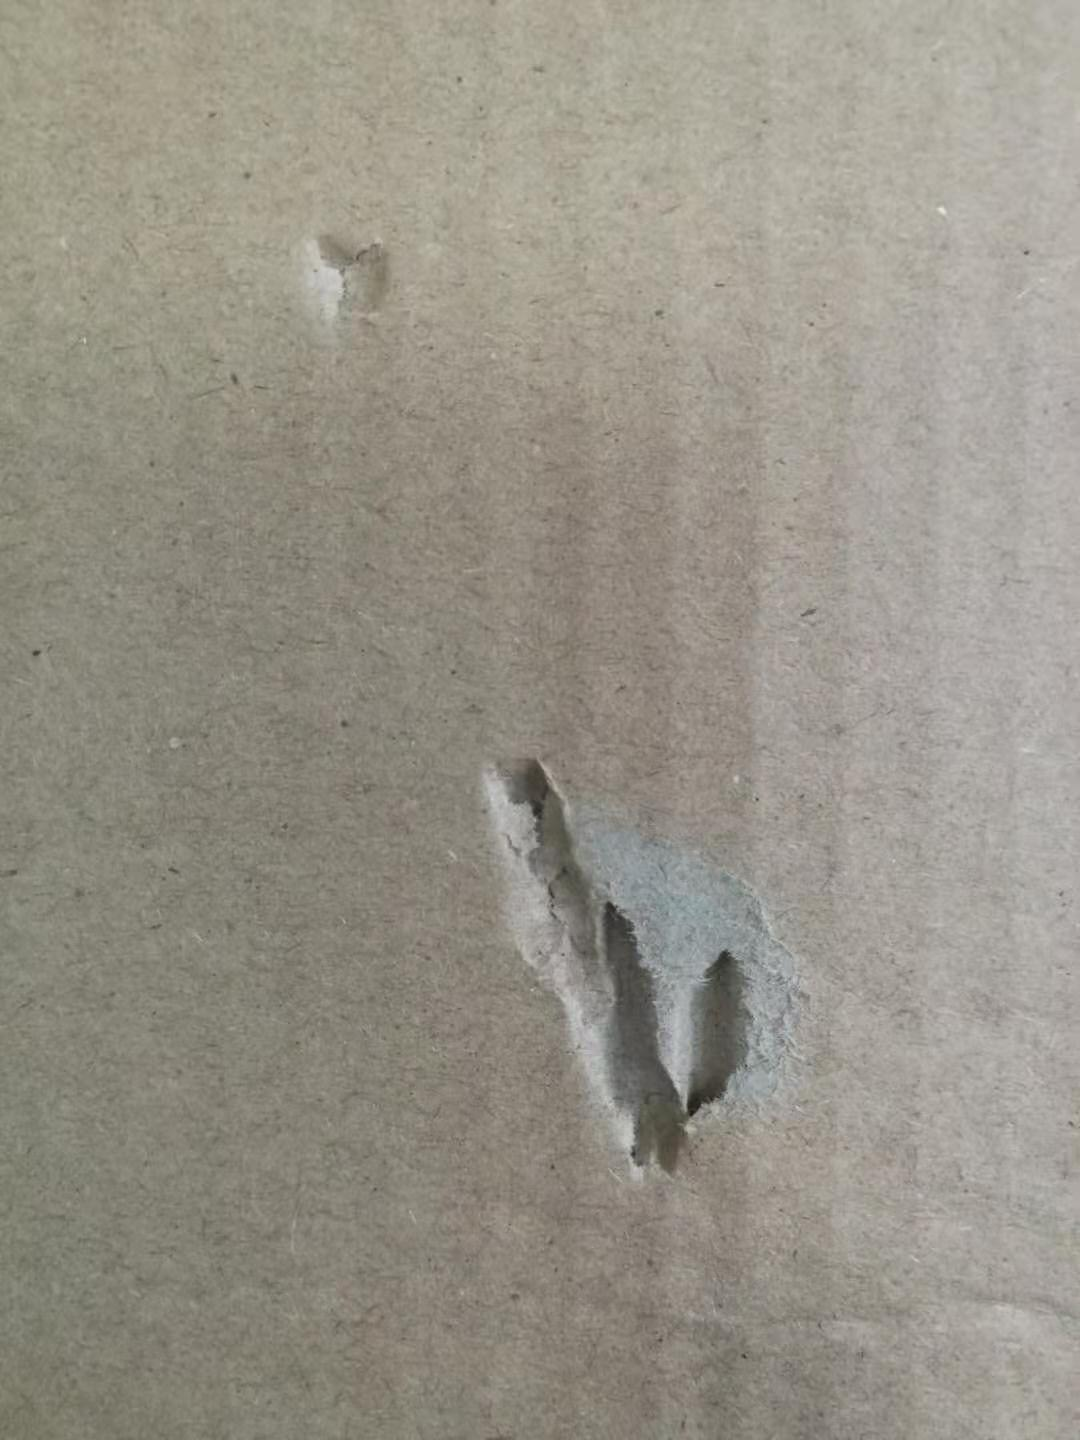defect: (442, 715, 855, 1230), (268, 195, 432, 376)
